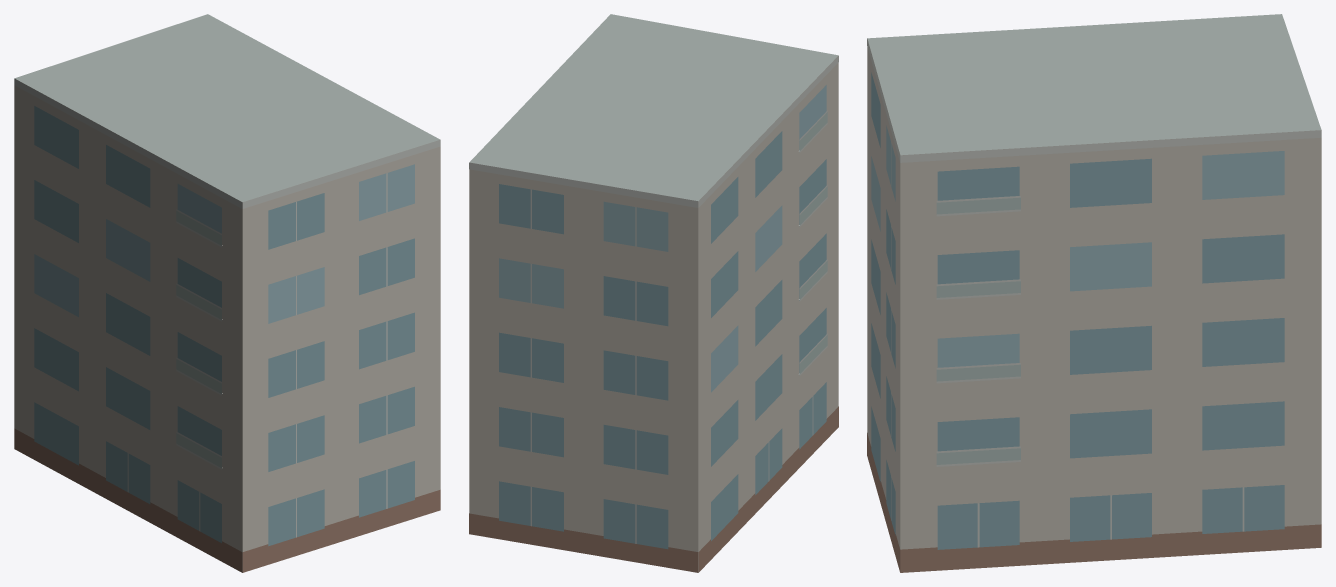
File: survey-upis-32741404.glb
3 renders of one model, left to right at view 1: azimuth 30°, elevation 25°; view 2: azimuth 150°, elevation 25°; view 3: azimuth 270°, elevation 25°, orthographic. The views are drawn at different scales.
Visible parts, largest first — view 1: survey-upis-32741404.tmp; view 2: survey-upis-32741404.tmp; view 3: survey-upis-32741404.tmp.
Part boxes in pixels (<box>): survey-upis-32741404.tmp: <box>14,14,440,572</box>; survey-upis-32741404.tmp: <box>469,14,838,572</box>; survey-upis-32741404.tmp: <box>867,14,1321,572</box>.
Size of the model in its own units: 9.66 by 13.3 by 13.12.
